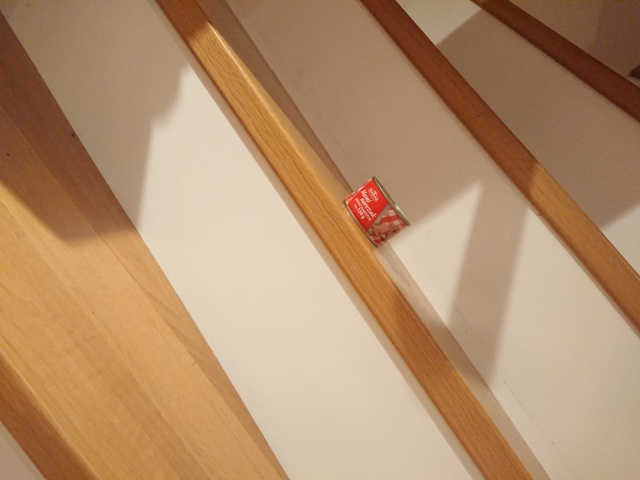Podravka Luncheon Meat 150g: (341, 174, 413, 250)
